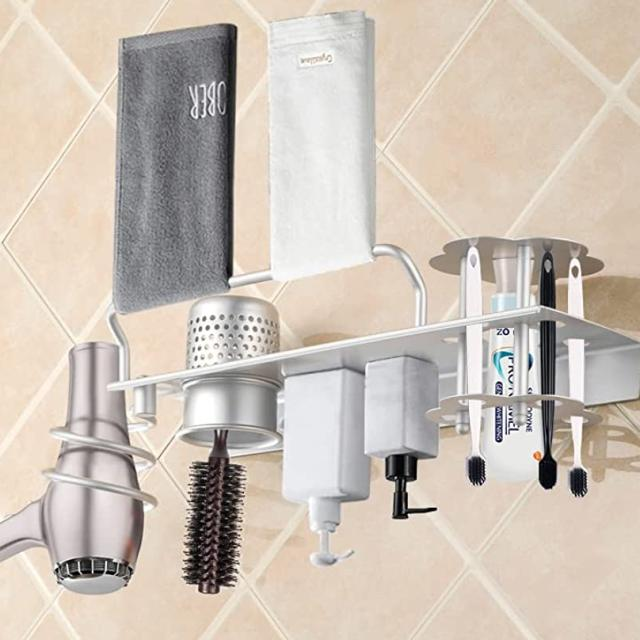dryer: (0, 331, 160, 608)
